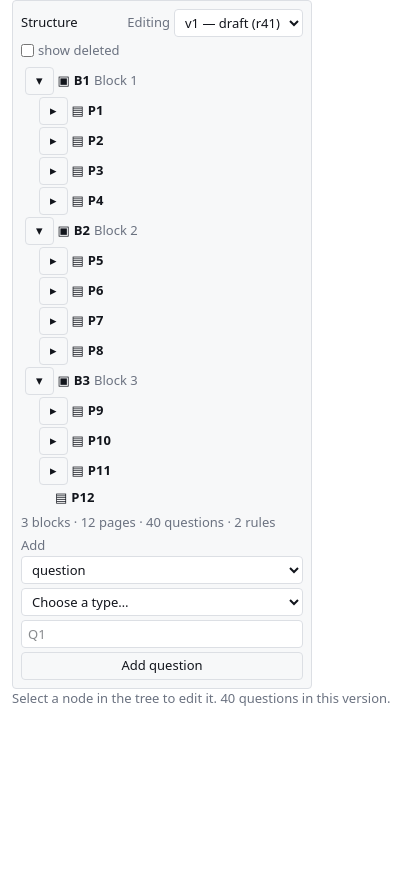
Test: SurveyTreePane — the outline › renders the 3-block / 12-page / 40-question survey with its badges
Check: the element with test id "survey-tree" is shown, box [25,66,138,506]
Check: the text with test id "tree-counts" shows "3 blocks · 12 pages · 40 questions", box [21,512,303,532]
Click the button named "Expand P1": (53, 110) [39,96,68,124]
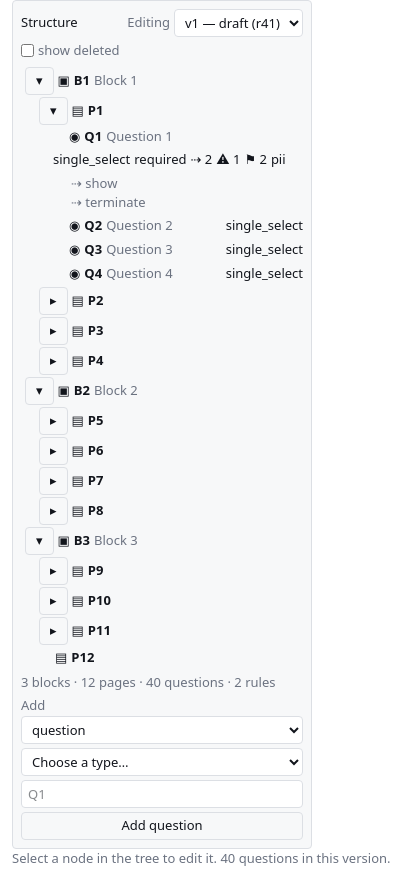
Check: the list item with test id "tree-row-qst_1" is shown, box [53,126,286,211]
Check: the text with test id "tree-type-qst_1" reads "single_select", box [53,150,130,168]
Check: the text "required" is shown, box [134,150,187,170]
